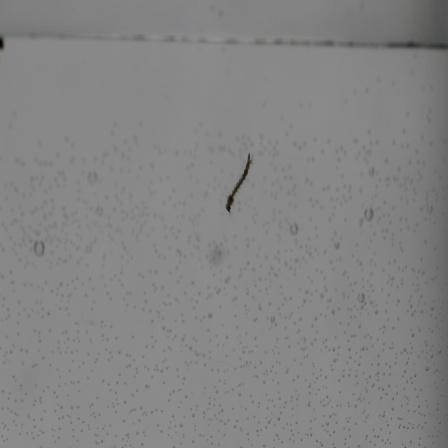Jentik-Nyamuk: (221, 149, 256, 221)
